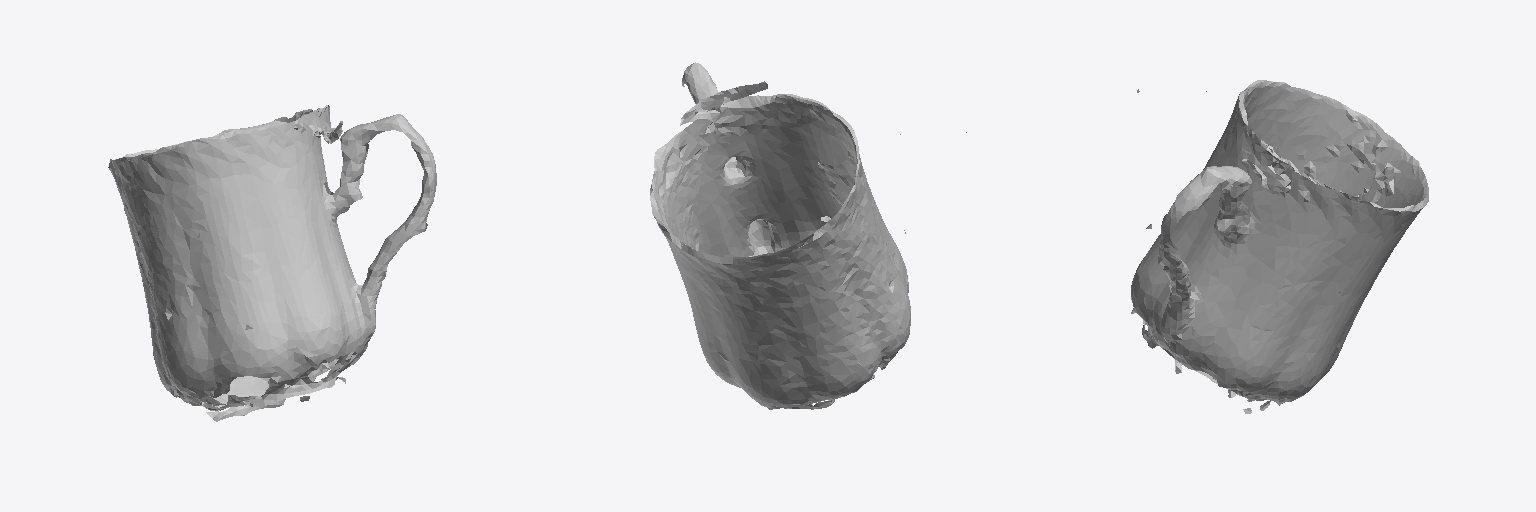
The model's file is boquet_holes.obj.
3 renders of one model, left to right at view 1: azimuth 30°, elevation 25°; view 2: azimuth 150°, elevation 25°; view 3: azimuth 270°, elevation 25°, orthographic.
Bounding box in the file's own units: 98.43 × 111 × 98.71.